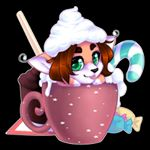cups: (16, 77, 120, 149)
